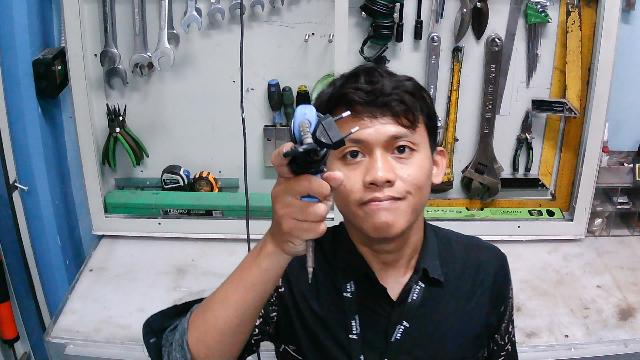solder_electrical: (287, 104, 361, 284)
